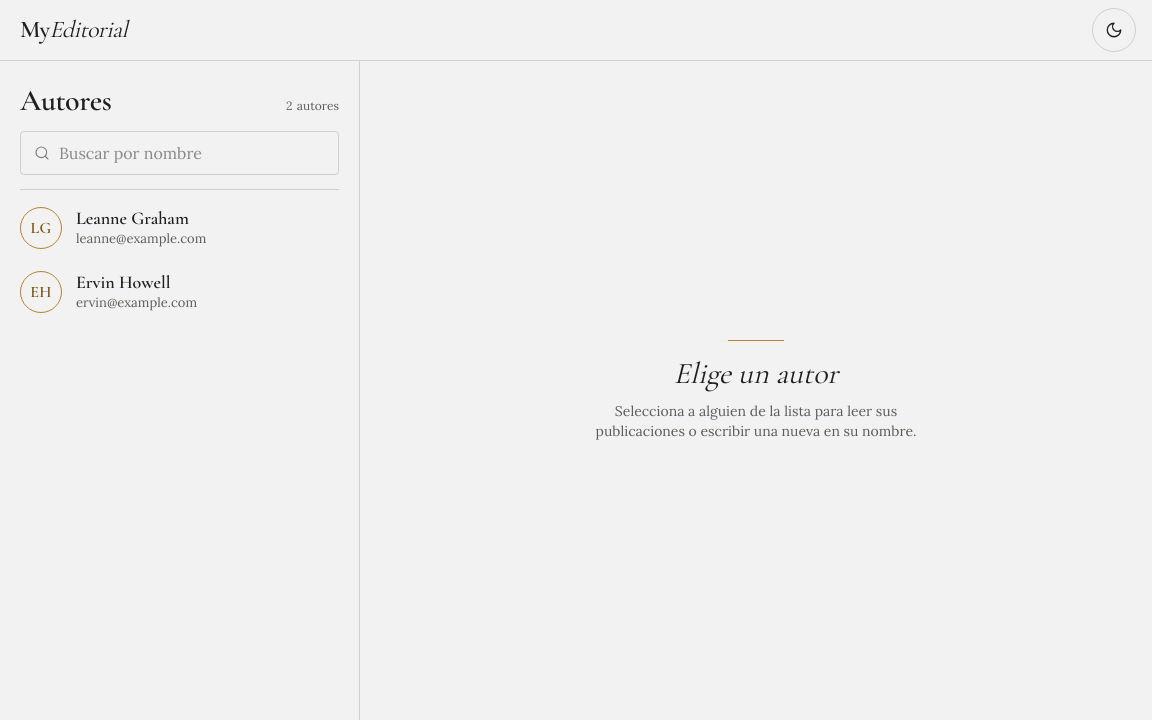
Test: App › R3: publishing closes the form, shows a toast and adds the post first
This screenshot has width=1152, height=720.
Click the button "LG Leanne Graham leanne@example.com". click: (180, 228)
box: [8, 196, 351, 260]
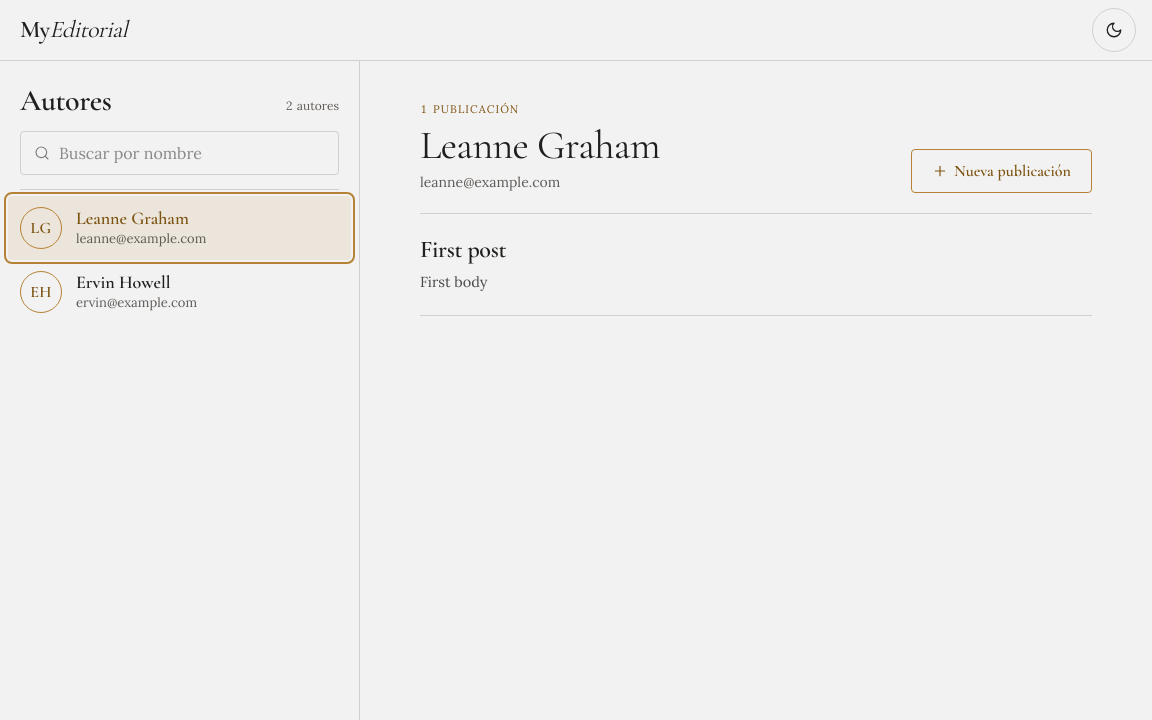
Click the button "Nueva publicación". click: (1001, 171)
box: [911, 149, 1092, 193]
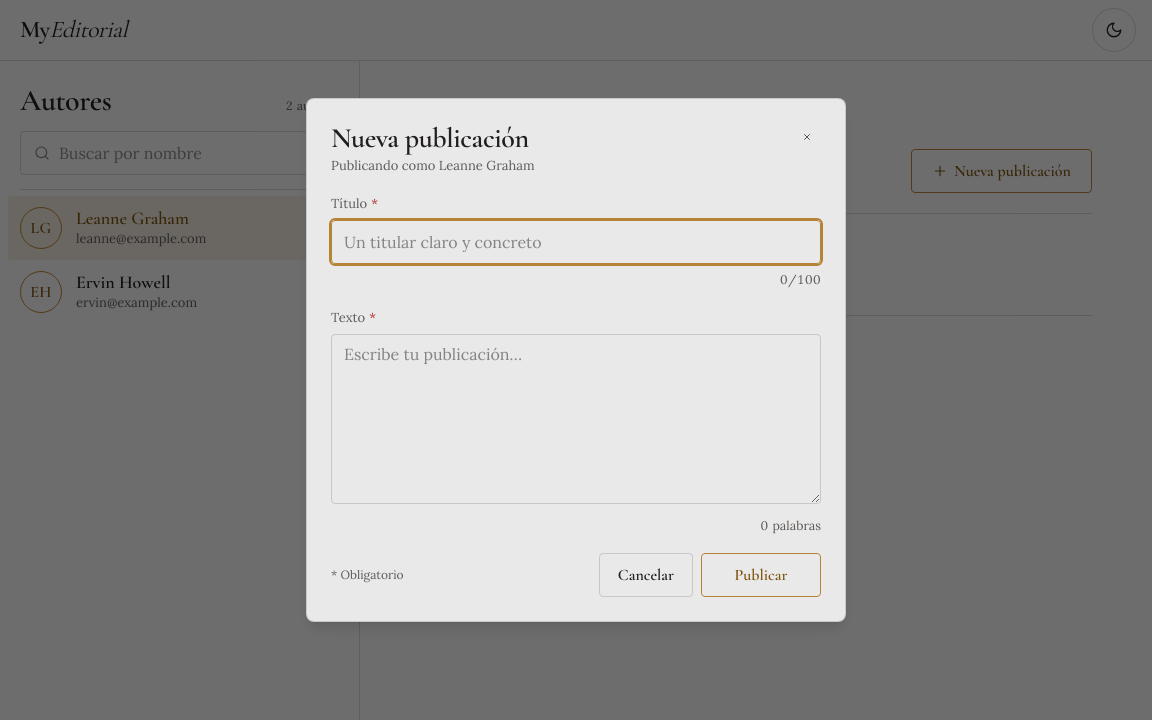
Type "brand new" into the field labelled "Título". click: (576, 242)
box: [331, 220, 821, 264]
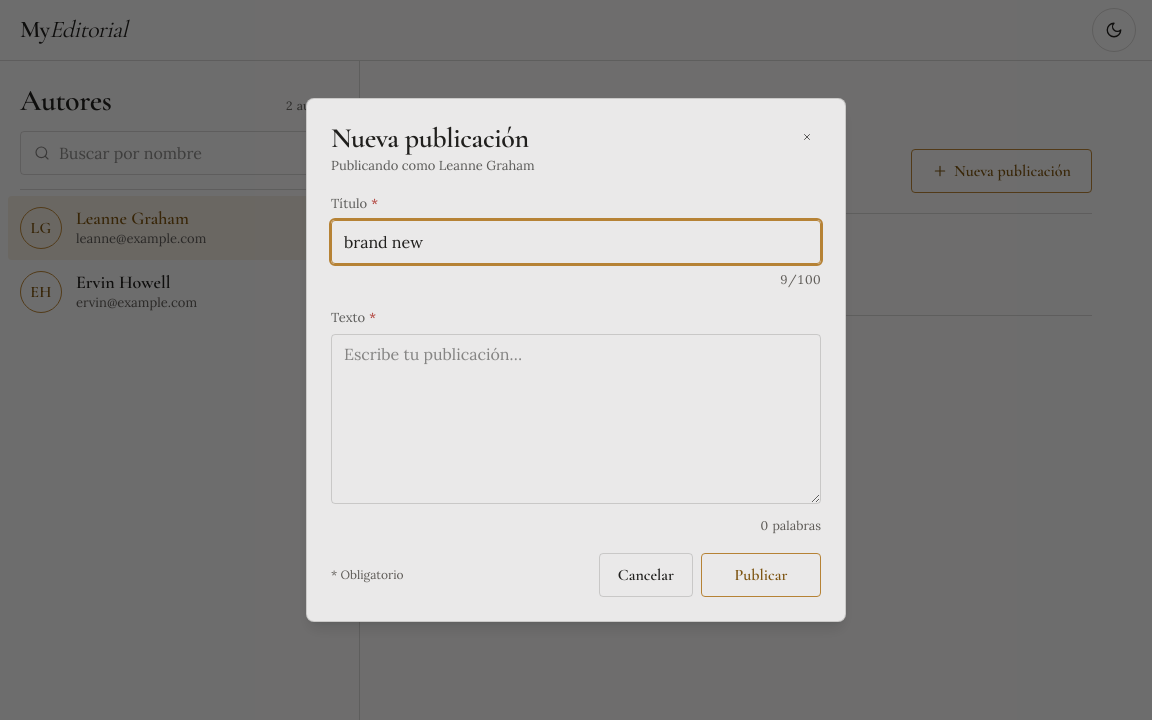
Type "some text" into the text box labelled "Texto". click: (576, 419)
box: [331, 334, 821, 504]
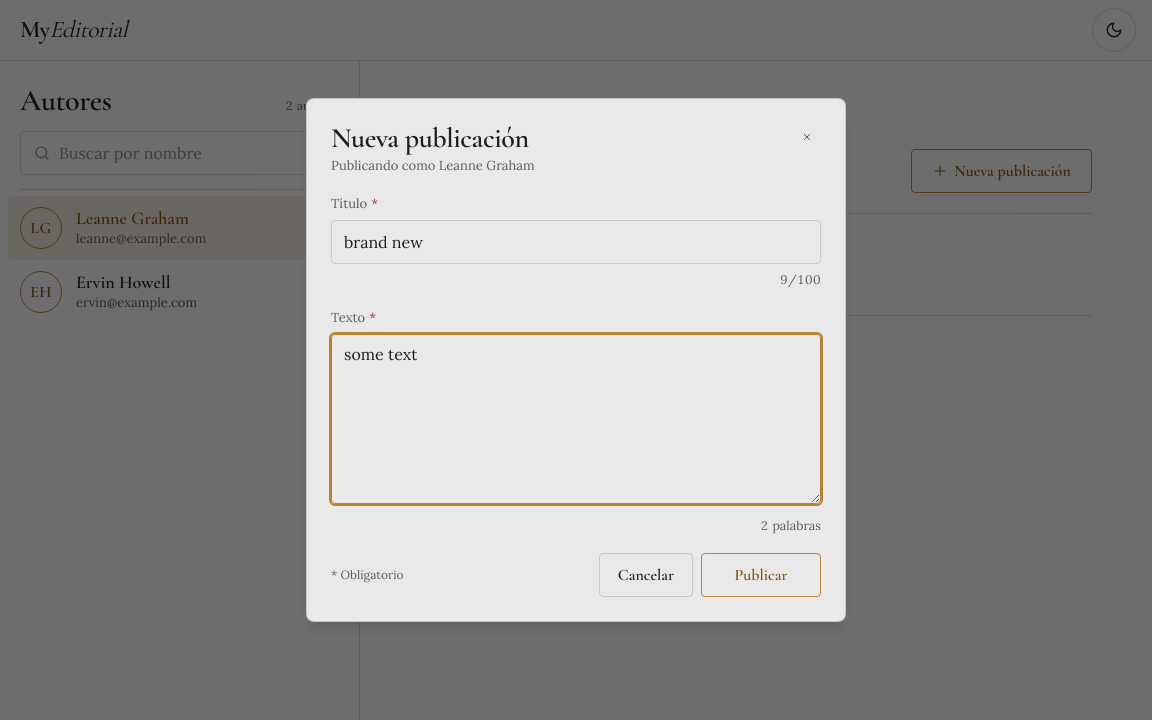
Click the button "Publicar". click: (761, 575)
box: [701, 553, 821, 597]
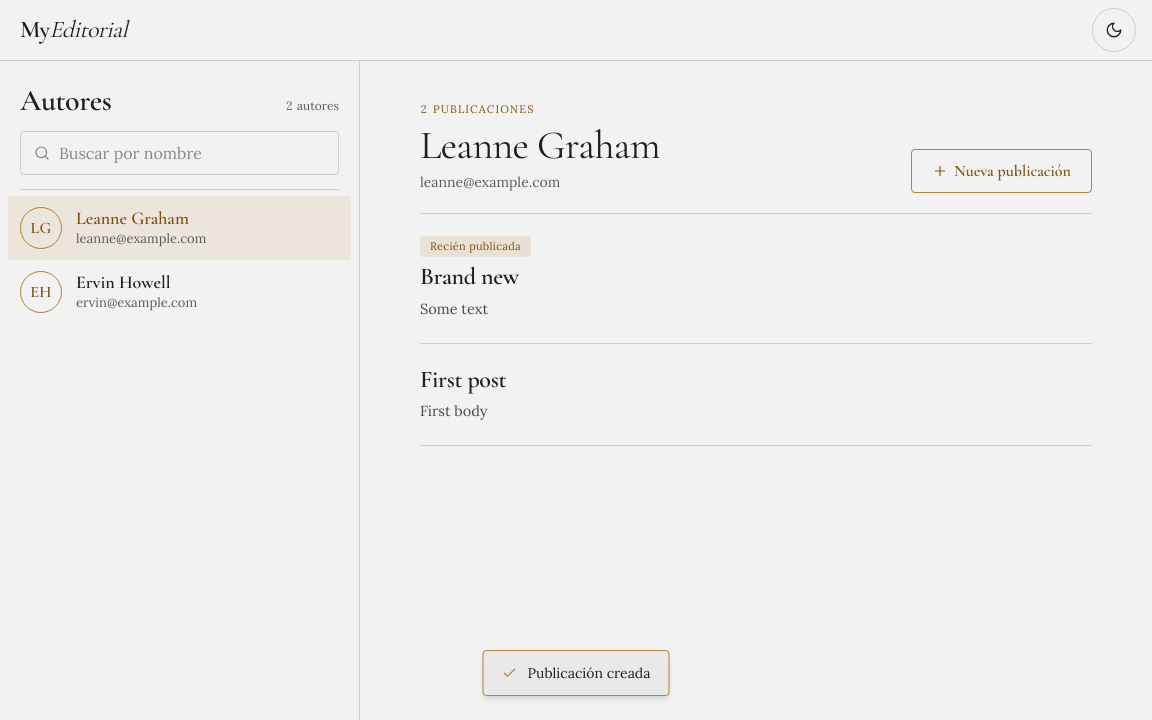
Expected: the text "Publicación creada" is shown, [482, 650, 669, 696]
Expected: the dialog is gone
Expected: the headings read "Brand new", "First post", in this order, [420, 262, 519, 291]; [420, 364, 506, 394]
